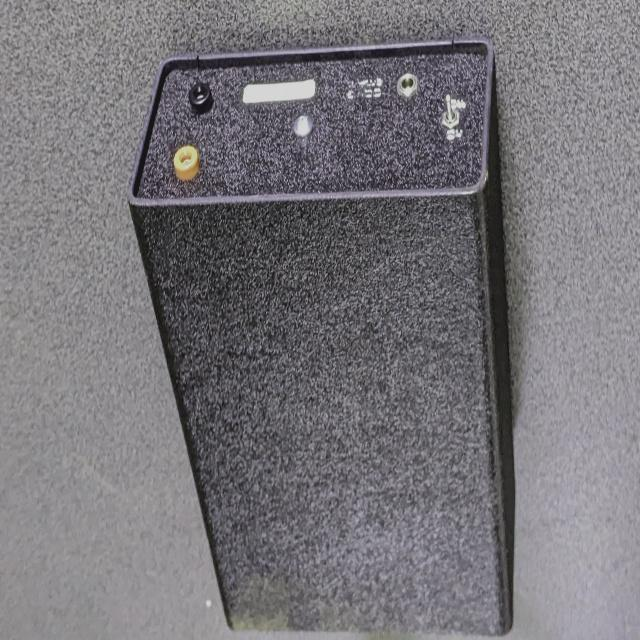SRP Digital Spark Timer: (125, 5, 507, 638)
